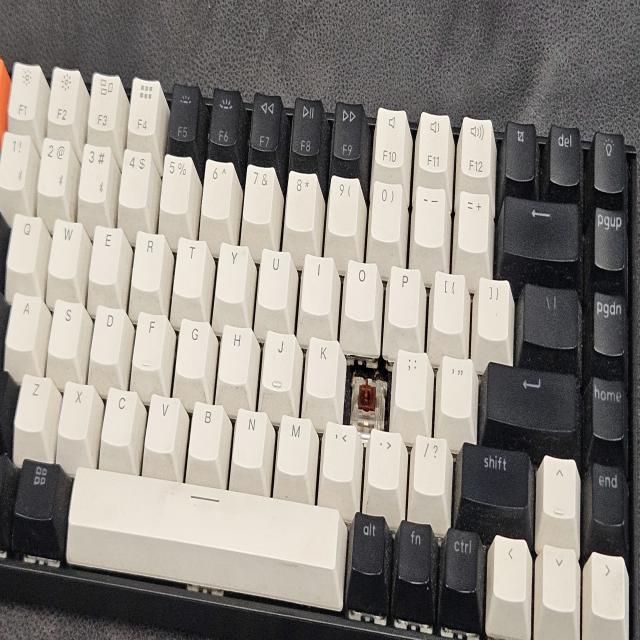C: (350, 356, 388, 422)
